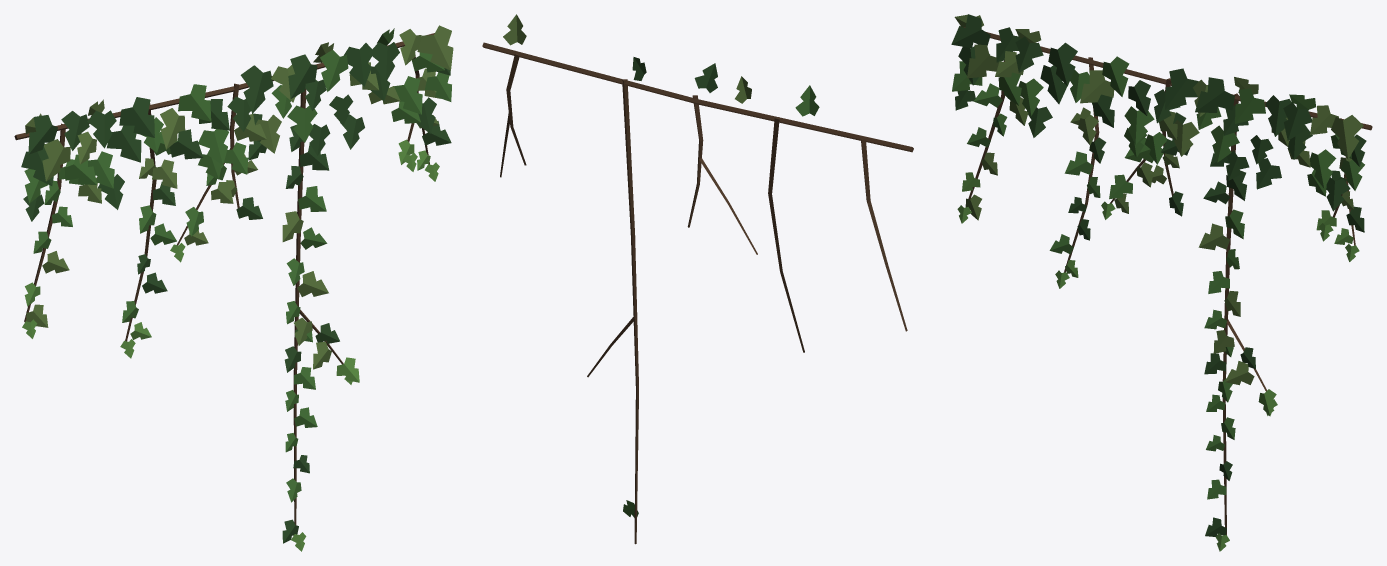
The model's file is mdvl_nature_ivy_01.glb.
3 renders of one model, left to right at view 1: azimuth 30°, elevation 25°; view 2: azimuth 150°, elevation 25°; view 3: azimuth 330°, elevation 25°, orthographic. The views are drawn at different scales.
Visible parts, largest first — view 1: mdvl_nature_ivy_01; view 2: mdvl_nature_ivy_01; view 3: mdvl_nature_ivy_01.
Part boxes in pixels (box(x1,y1,x2,y2)): mdvl_nature_ivy_01: box(14, 25, 453, 551); mdvl_nature_ivy_01: box(482, 14, 913, 544); mdvl_nature_ivy_01: box(951, 14, 1372, 551).
Size of the model in its own units: 2 by 2.25 by 0.1413.
Materials: 1 (1 with a texture image).
